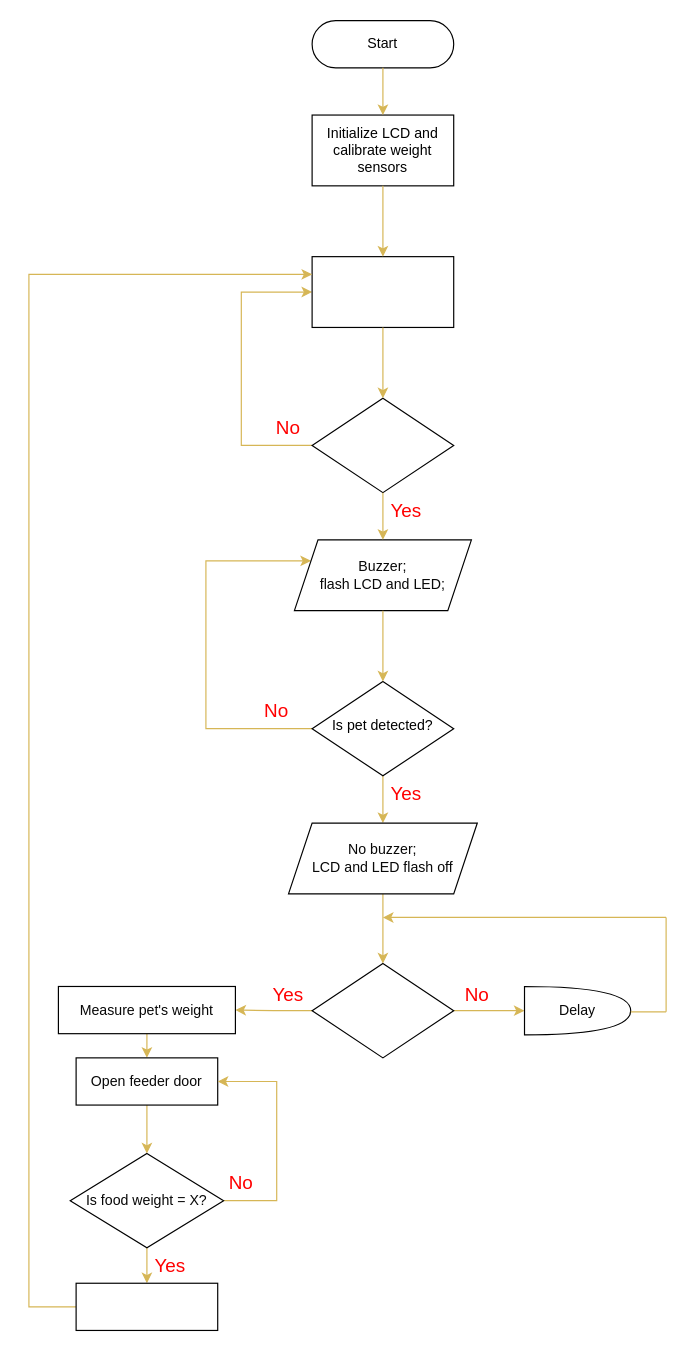
Image size: 696x1351. Some labels were removed from this diagram. Here are the shapes that lost their labels. From the top down, the centre of each, then its label:
the point at 382,291: Display current time and time to next feed
the point at 382,445: Is it feeding time?
the point at 382,1010: Is feeder plate empty?
the point at 146,1306: Close feeder door
